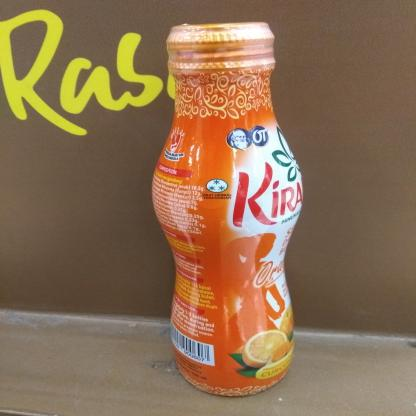keyboard: (144, 15, 309, 390)
